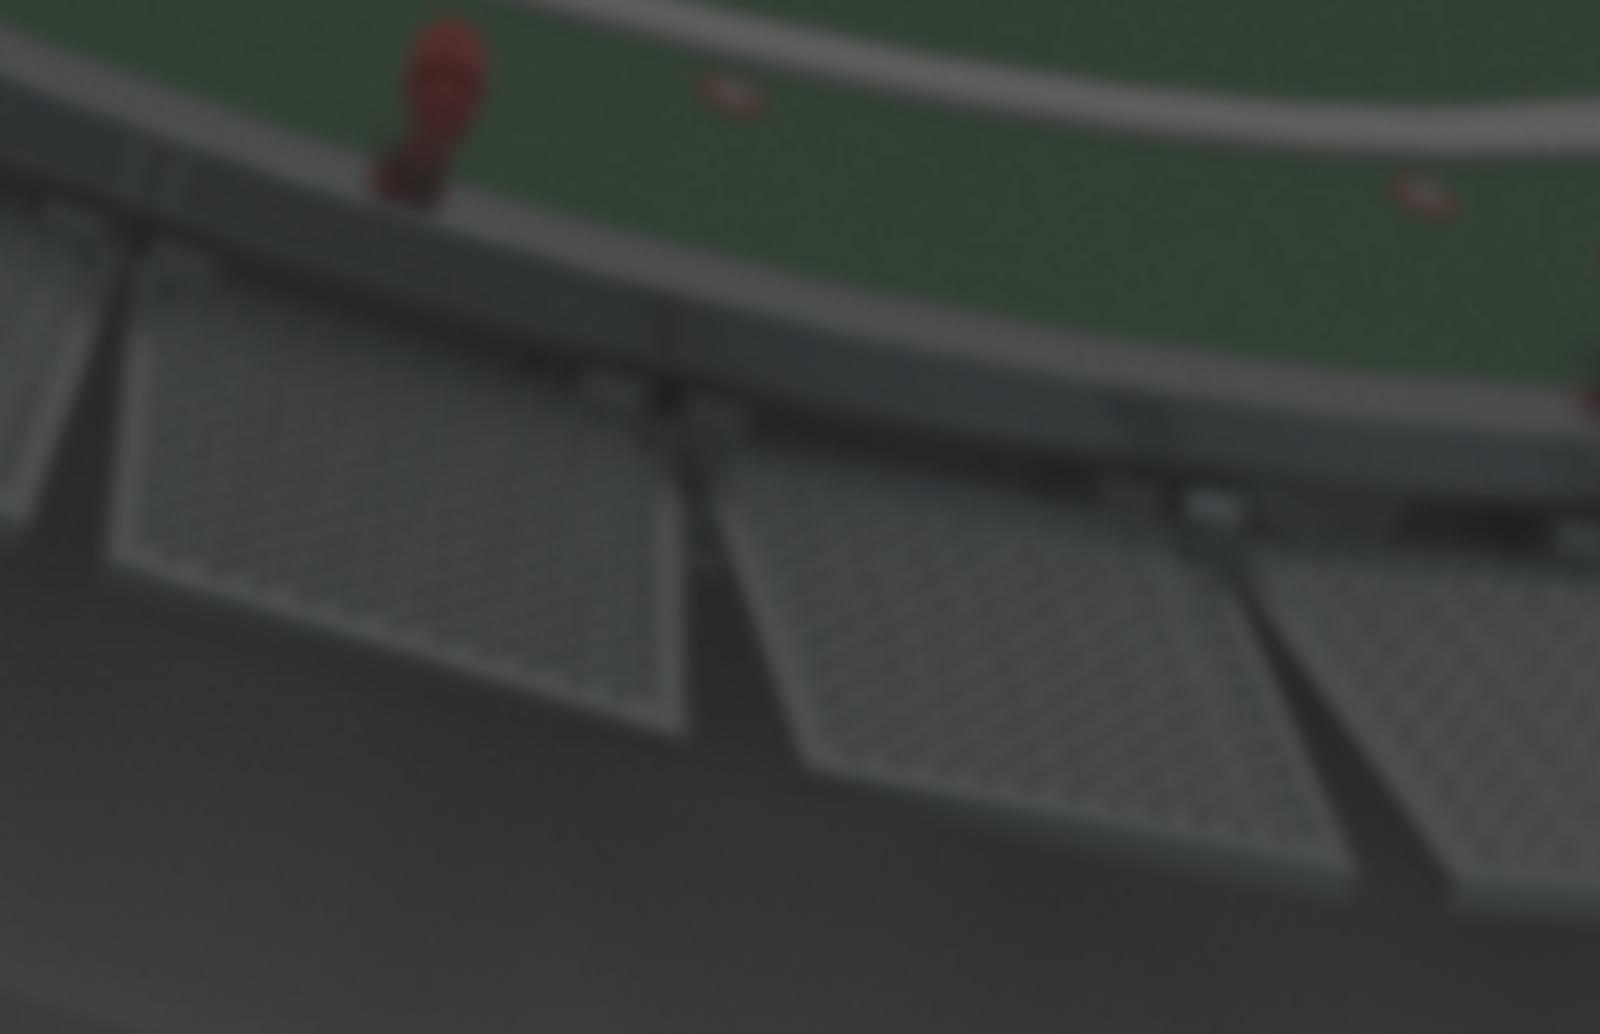Apron: (500, 1, 1594, 199)
